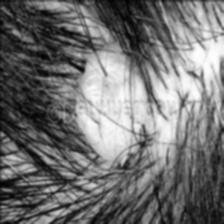Potentially Malignant Skin Tumors: (73, 46, 149, 159)
